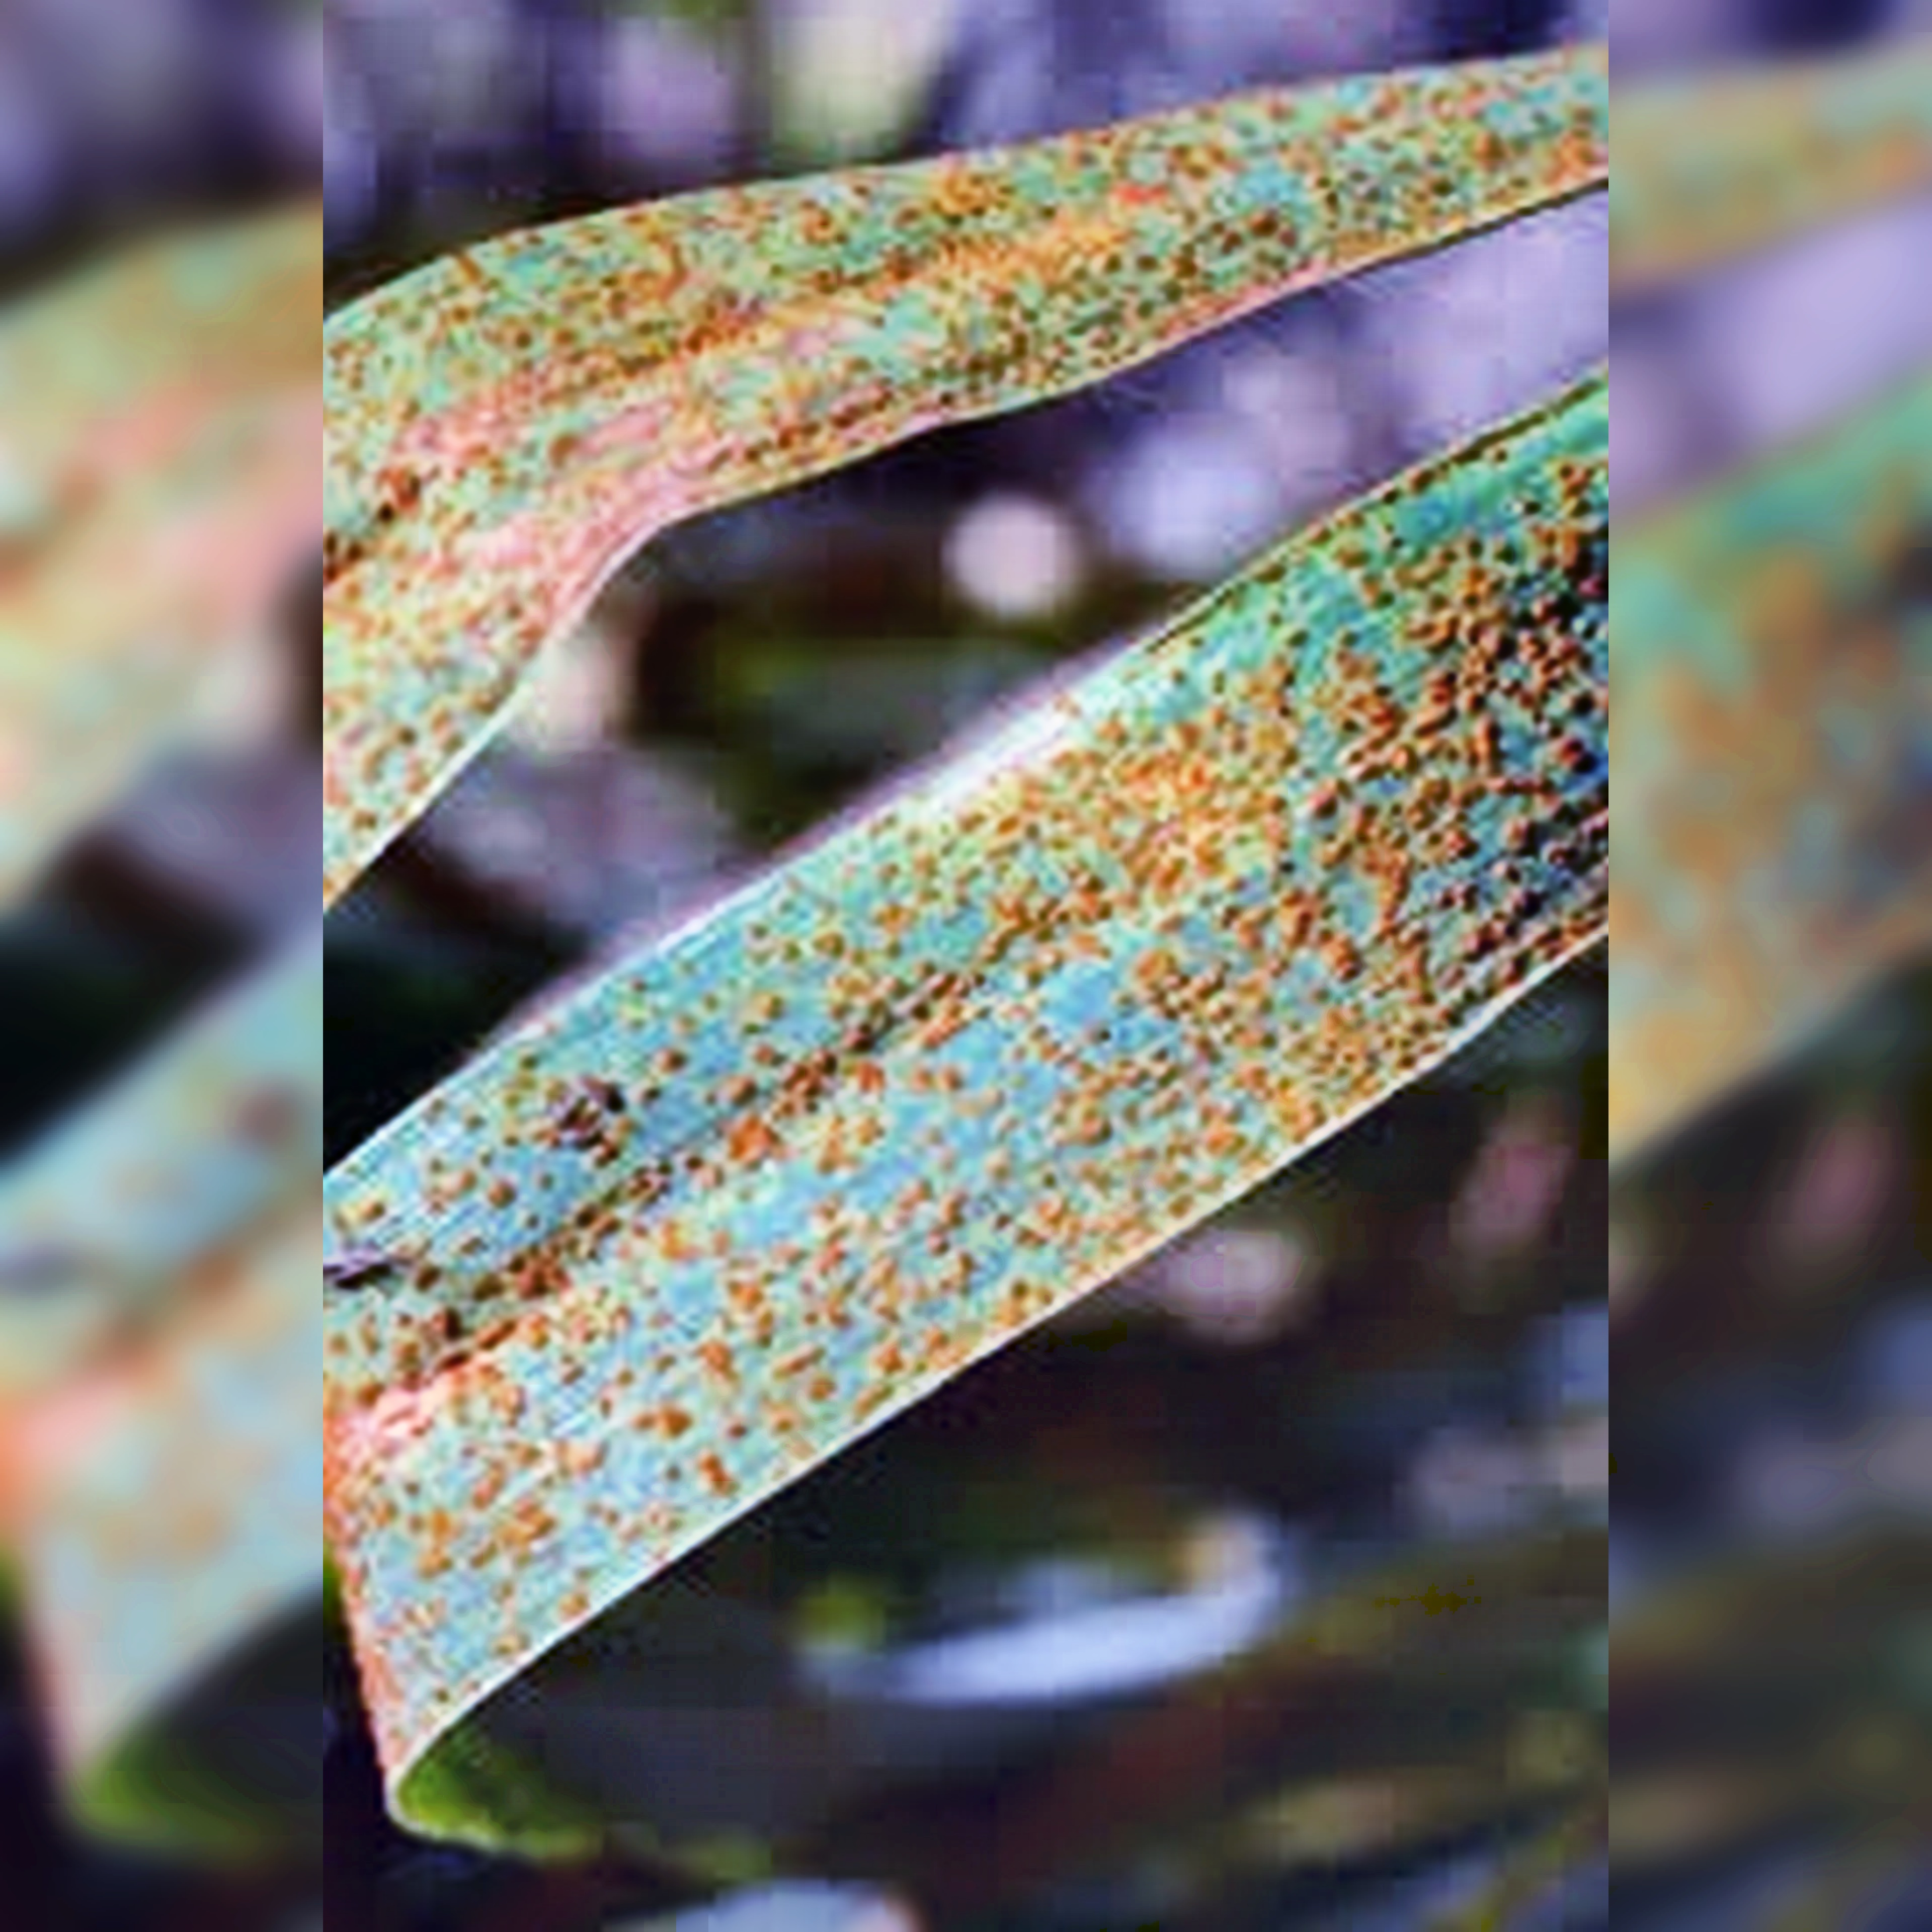Leaf Rust: (508, 518, 1580, 1545)
